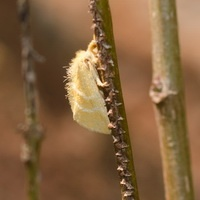insect: (65, 39, 110, 133)
